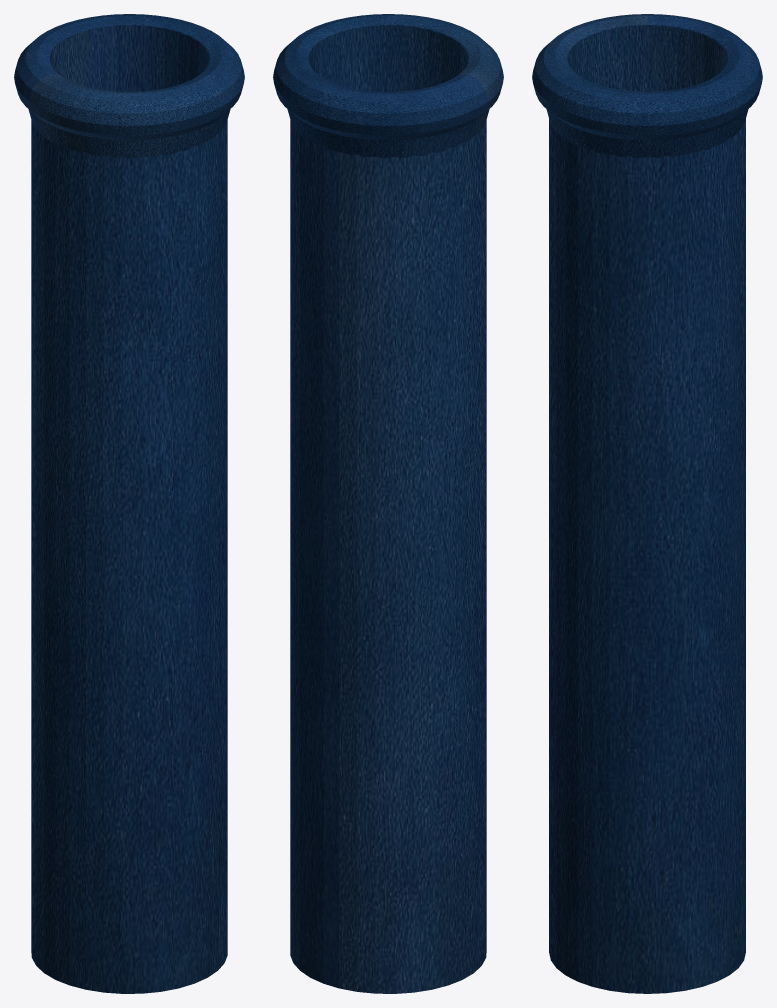
Rendered from 1.75inchTube2.fbx.
3 renders of one model, left to right at view 1: azimuth 30°, elevation 25°; view 2: azimuth 150°, elevation 25°; view 3: azimuth 270°, elevation 25°, orthographic.
Visible parts, largest first — view 1: Cylinder.001, Torus; view 2: Cylinder.001, Torus; view 3: Cylinder.001, Torus.
Part boxes in pixels (x1=…): Cylinder.001: x1=31, y1=38, x2=227, y2=993; Torus: x1=14, y1=14, x2=244, y2=158; Cylinder.001: x1=290, y1=26, x2=486, y2=993; Torus: x1=273, y1=14, x2=503, y2=158; Cylinder.001: x1=549, y1=26, x2=745, y2=993; Torus: x1=532, y1=14, x2=762, y2=158.
Size of the model in its own units: 9.38 by 40.22 by 9.38.
Materials: 1 (1 with a texture image).
